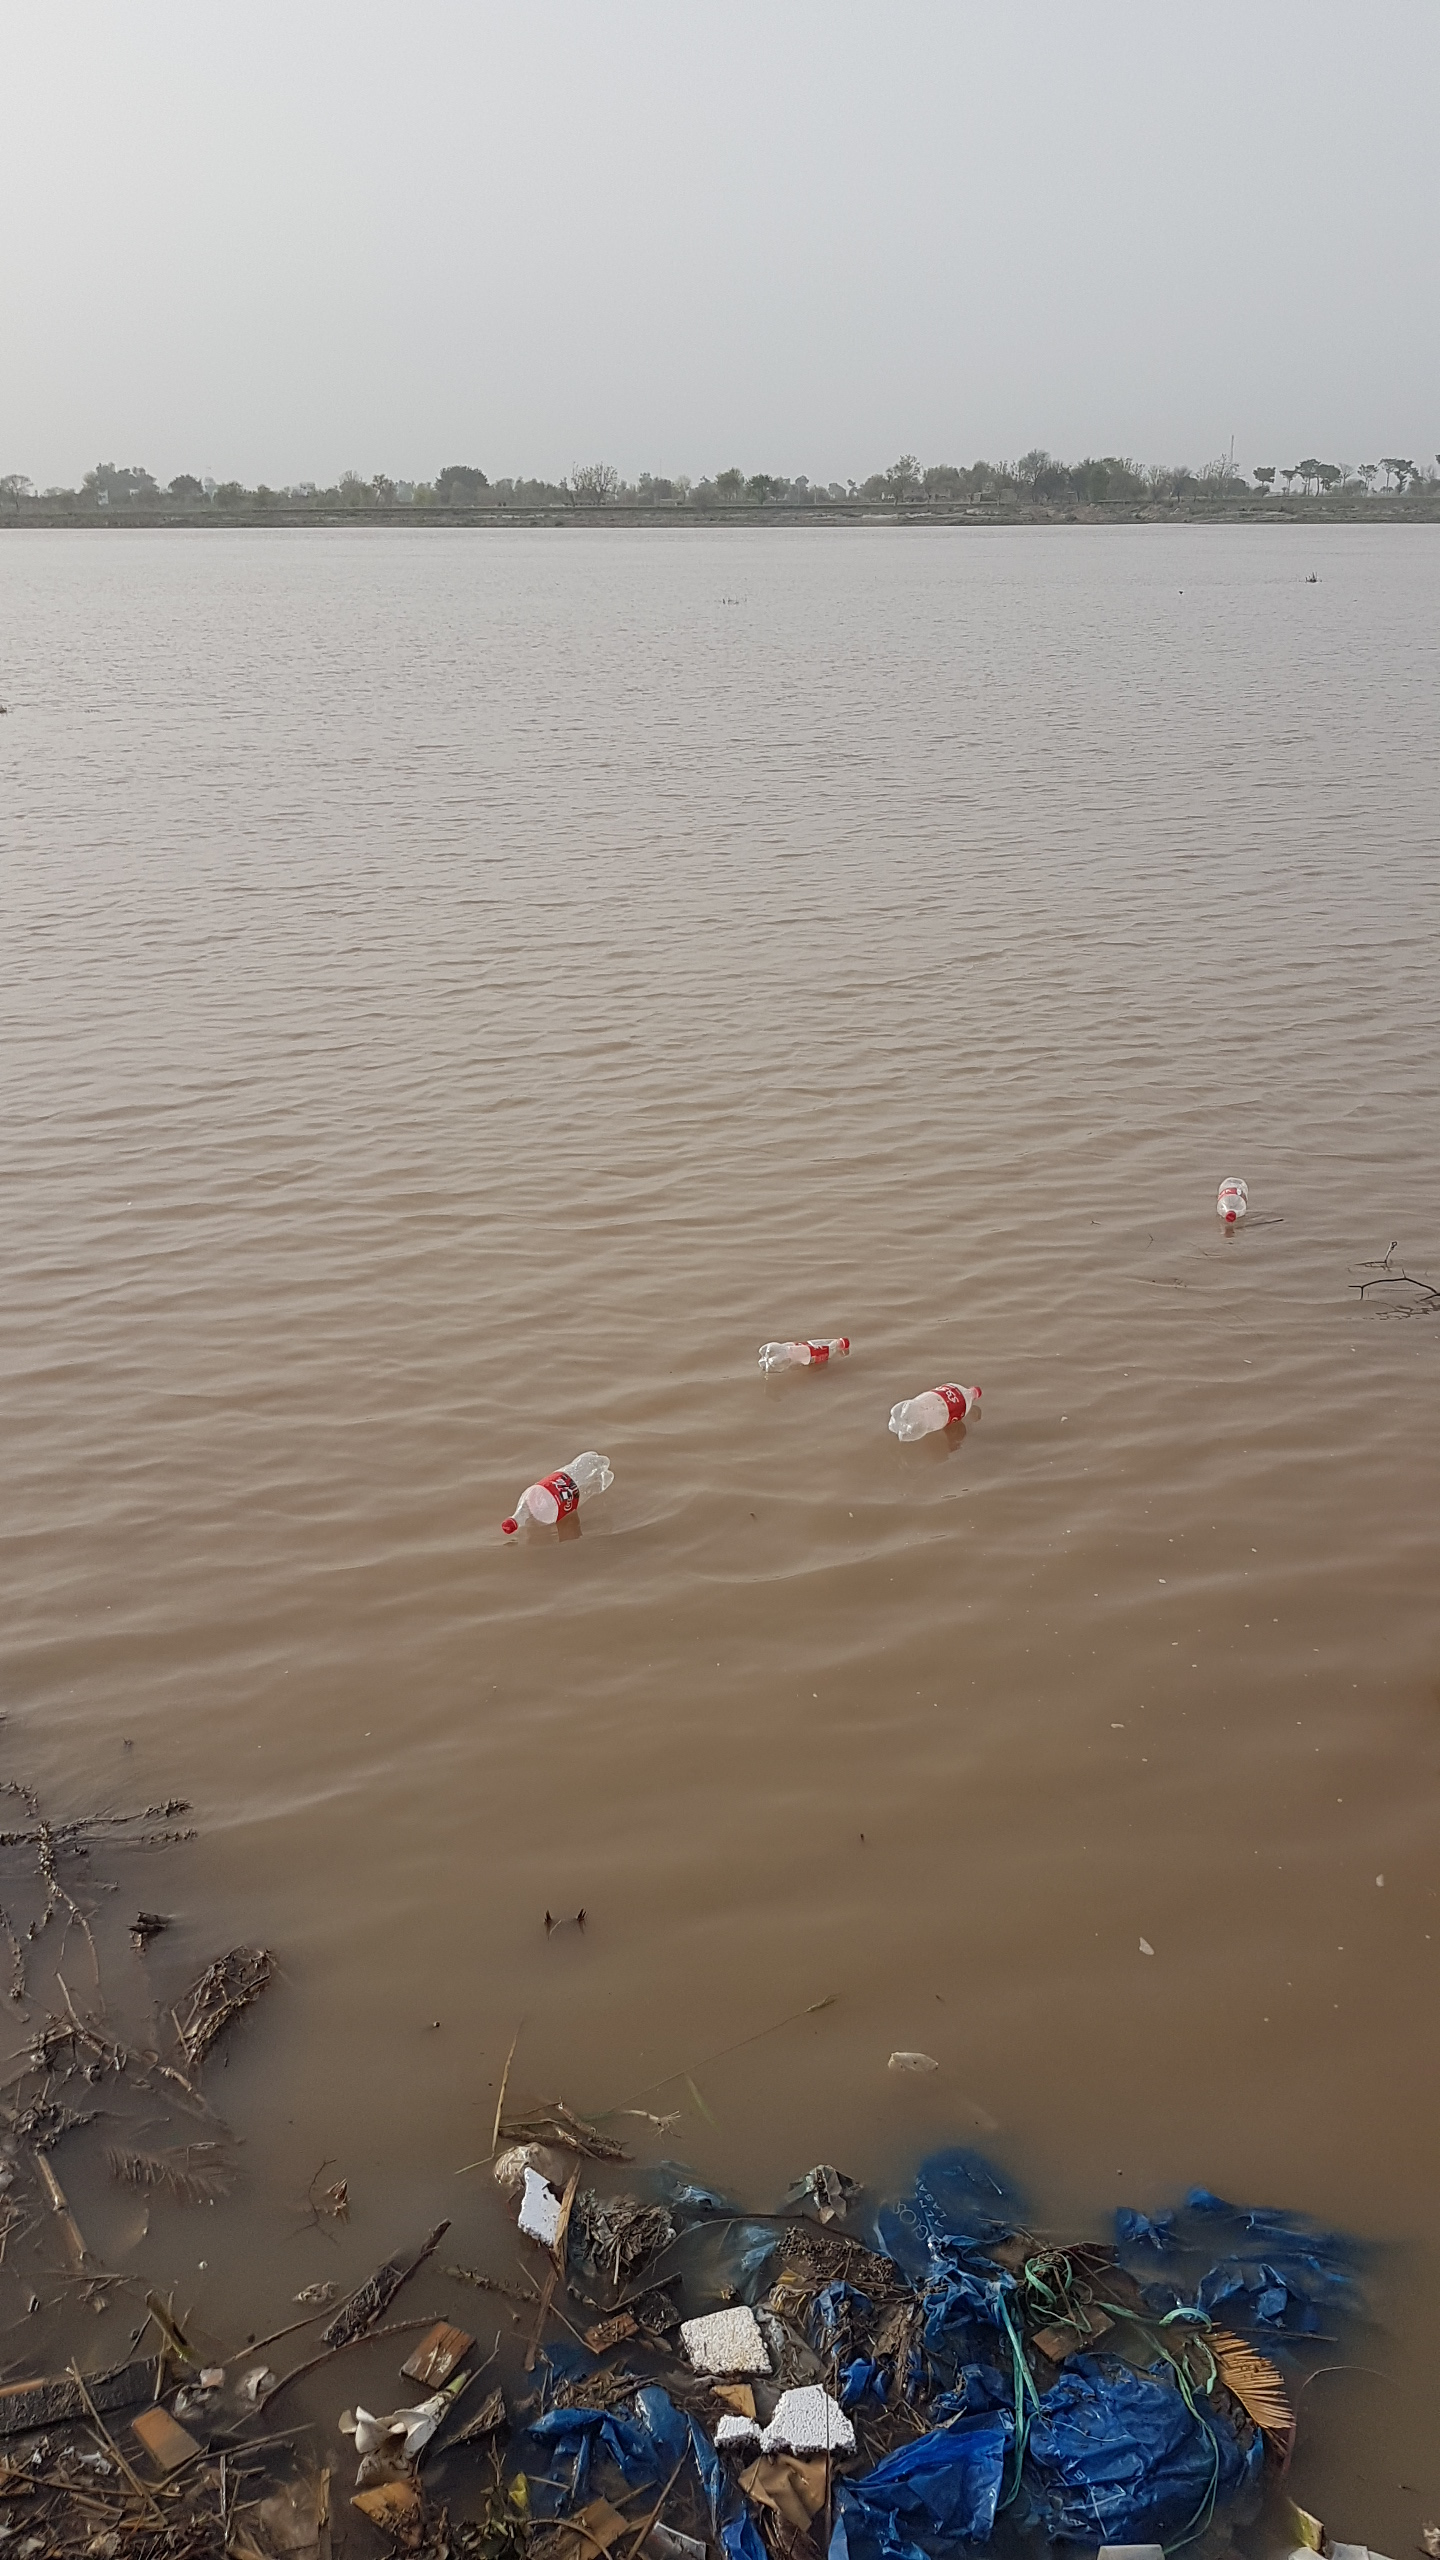Plastic Bottle: (503, 1451, 614, 1535), (890, 1382, 983, 1442), (758, 1336, 851, 1373), (1217, 1176, 1248, 1220)
